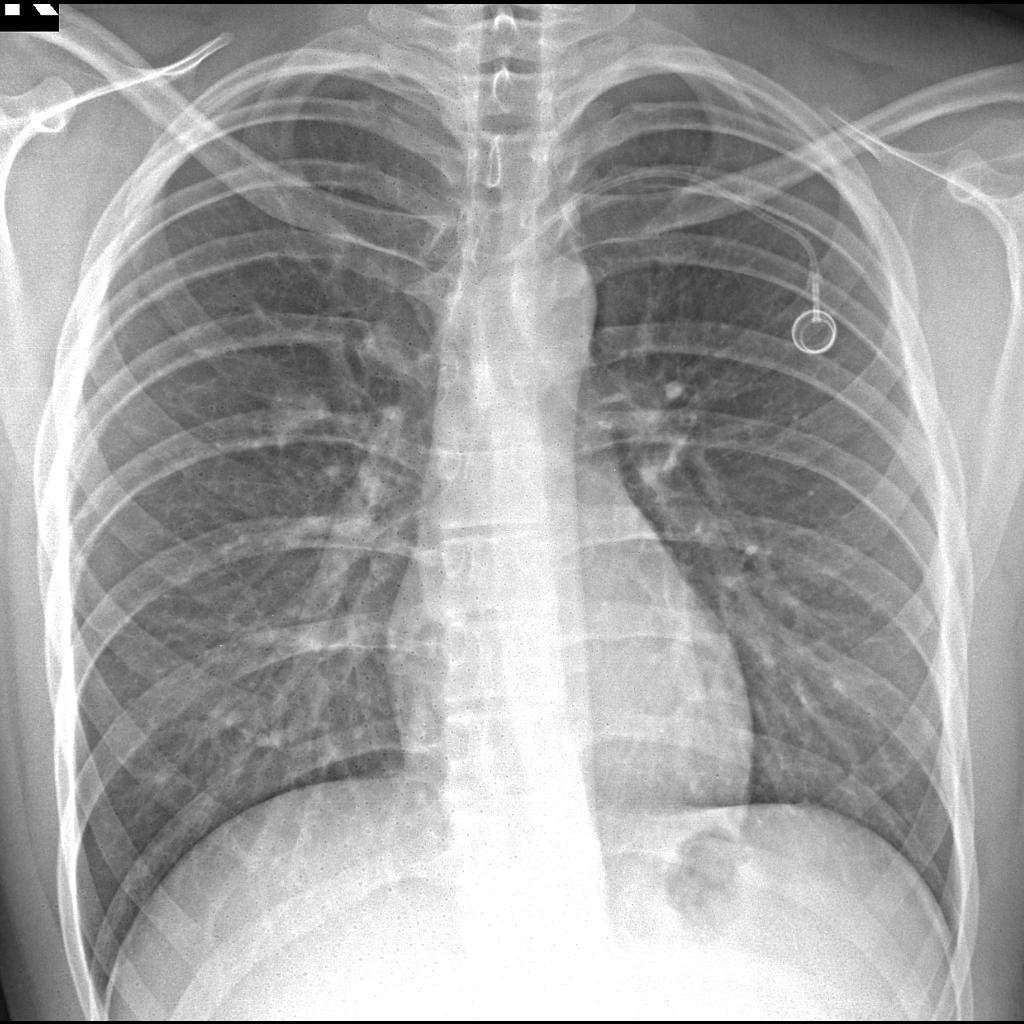Nodule: (249, 379, 336, 454)
